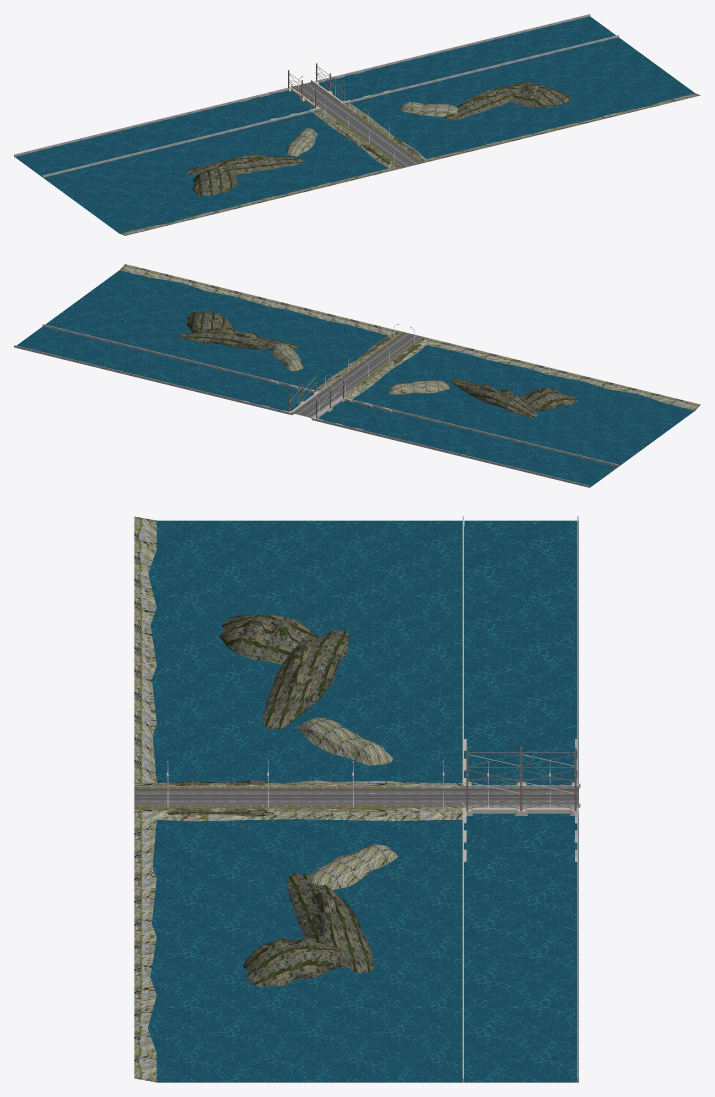
The model's file is green_w _ p_02.FBX.
The picture shows the model from 3 angles, top to bottom: view 1: azimuth 30°, elevation 25°; view 2: azimuth 150°, elevation 25°; view 3: azimuth 270°, elevation 25°; orthographic projection. The views are drawn at different scales.
Parts seen in each view (by area): view 1: Object459, Object045, Object409, Object333, Object332, Object408, Cylinder008, Cylinder012; view 2: Object459, Object045, Object333, Object409, Object408, Object332, Cylinder012, Cylinder008; view 3: Object459, Object045, Object409, Object333, Object332, Object408, Cylinder012, Cylinder008.
Boxes of the visible parts, x1,y1,x2,y2 form: Object459: (14, 14, 700, 235); Object045: (322, 103, 422, 167); Object409: (185, 154, 305, 174); Object333: (444, 82, 532, 120); Object332: (510, 84, 571, 107); Object408: (192, 169, 237, 195); Cylinder008: (400, 102, 457, 116); Cylinder012: (286, 128, 317, 156); Object459: (14, 264, 700, 487); Object045: (321, 332, 421, 396); Object333: (179, 327, 298, 349); Object409: (450, 379, 538, 417); Object408: (519, 387, 577, 410); Object332: (186, 311, 231, 332); Cylinder012: (388, 380, 449, 394); Cylinder008: (272, 343, 303, 371); Object459: (134, 516, 580, 1082); Object045: (134, 788, 463, 806); Object409: (262, 629, 349, 729); Object333: (286, 873, 373, 973); Object332: (243, 936, 341, 986); Object408: (219, 614, 316, 663); Cylinder012: (296, 717, 393, 765); Cylinder008: (305, 844, 397, 889).
Bounding box in the file's own units: 11621 × 432 × 3903.
